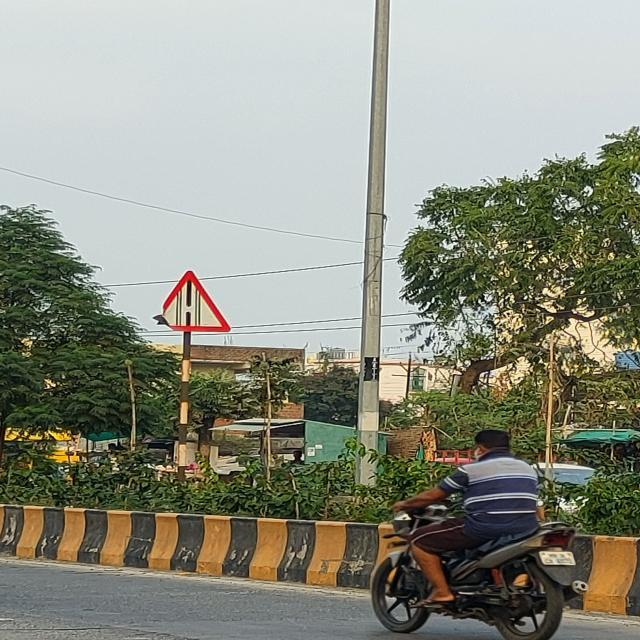gap in median: (154, 267, 232, 331)
